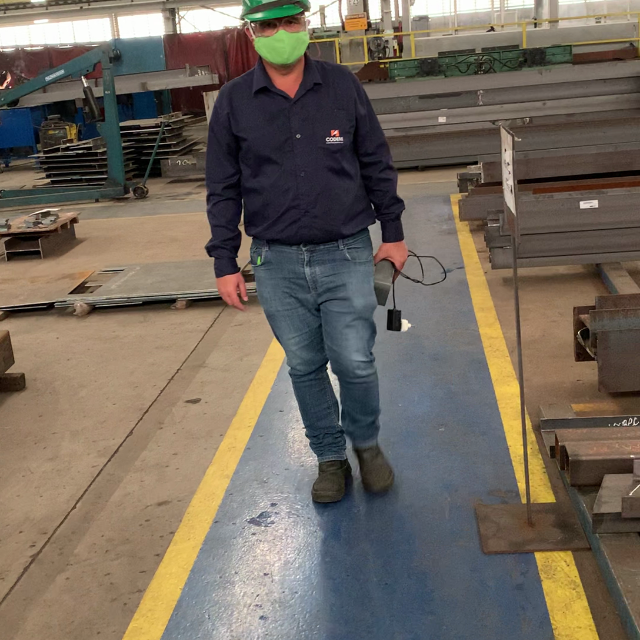eye-glass: (247, 21, 316, 35)
helmet: (239, 2, 315, 15)
mask: (251, 29, 312, 64)
person: (201, 1, 409, 506)
safety-shoe: (357, 446, 396, 497), (311, 461, 352, 506)
